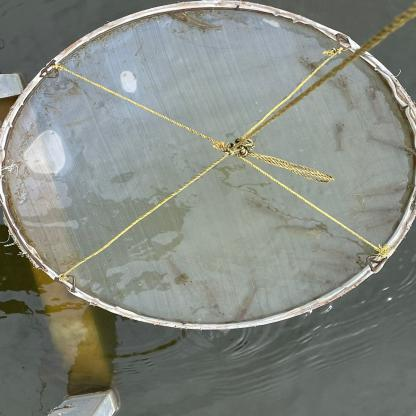shrimp: (167, 13, 223, 30)
